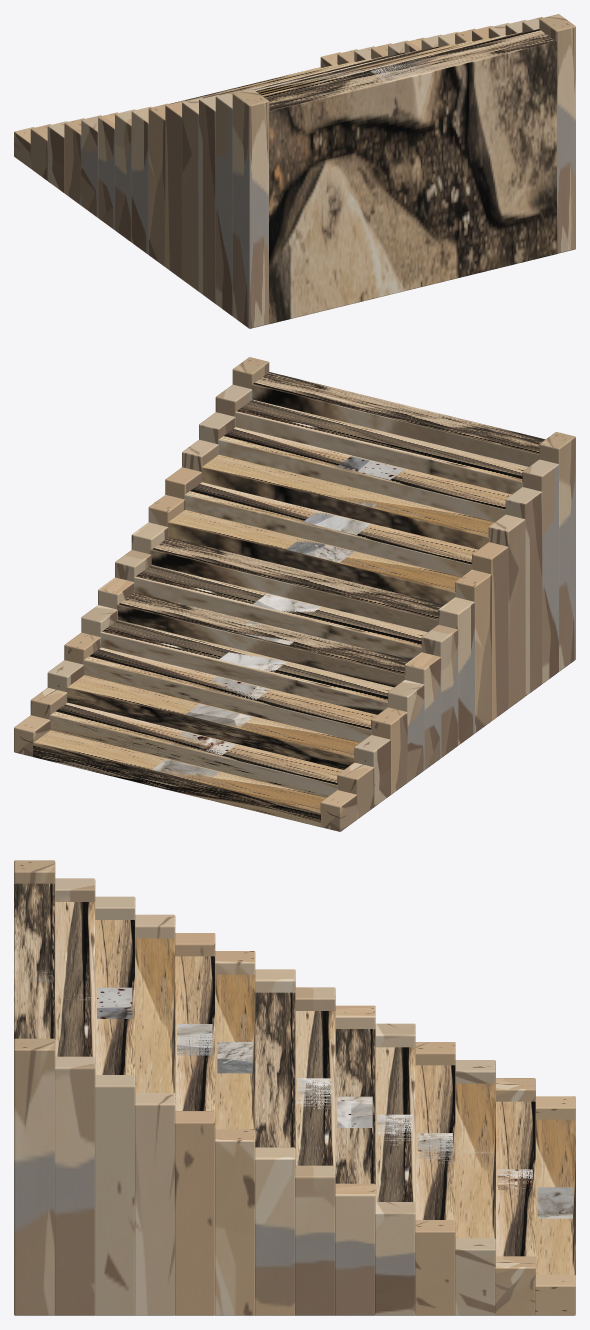
The model's file is stairs_stone_combat_4m_LOD1.glb.
The picture shows the model from 3 angles, top to bottom: view 1: azimuth 30°, elevation 25°; view 2: azimuth 150°, elevation 25°; view 3: azimuth 270°, elevation 25°; orthographic projection. The views are drawn at different scales.
Parts seen in each view (by area): view 1: LOD1_CombatStep.013, LOD1_CombatCurb.026, LOD1_CombatCurb.027, LOD1_CombatCurb.024, LOD1_CombatCurb.022, LOD1_CombatCurb.020, LOD1_CombatCurb.018, LOD1_CombatCurb.016, LOD1_CombatCurb.014, LOD1_CombatCurb.012, LOD1_CombatCurb.010, LOD1_CombatCurb.008 (+8 smaller); view 2: LOD1_CombatStep.013, LOD1_CombatStep.007, LOD1_CombatStep.012, LOD1_CombatStep.010, LOD1_CombatStep.005, LOD1_CombatStep.001, LOD1_CombatStep.003, LOD1_CombatStep, LOD1_CombatStep.004, LOD1_CombatStep.006, LOD1_CombatStep.008, LOD1_CombatStep.009 (+38 smaller); view 3: LOD1_CombatCurb.027, LOD1_CombatCurb.025, LOD1_CombatCurb.023, LOD1_CombatCurb.021, LOD1_CombatCurb.019, LOD1_CombatCurb.017, LOD1_CombatCurb.015, LOD1_CombatStep.013, LOD1_CombatStep.007, LOD1_CombatStep.002, LOD1_CombatStep.010, LOD1_CombatStep.012 (+39 smaller).
Boxes of the visible parts, bbox=[...] form: LOD1_CombatStep.013: bbox=[263, 29, 556, 324]; LOD1_CombatCurb.026: bbox=[232, 89, 269, 328]; LOD1_CombatCurb.027: bbox=[539, 14, 575, 253]; LOD1_CombatCurb.024: bbox=[215, 92, 236, 316]; LOD1_CombatCurb.022: bbox=[199, 94, 219, 303]; LOD1_CombatCurb.020: bbox=[182, 97, 202, 291]; LOD1_CombatCurb.018: bbox=[165, 100, 185, 279]; LOD1_CombatCurb.016: bbox=[148, 103, 168, 267]; LOD1_CombatCurb.014: bbox=[131, 106, 152, 254]; LOD1_CombatCurb.012: bbox=[115, 109, 135, 242]; LOD1_CombatCurb.010: bbox=[98, 112, 118, 230]; LOD1_CombatCurb.008: bbox=[81, 115, 101, 217]; LOD1_CombatStep.013: bbox=[251, 372, 545, 466]; LOD1_CombatStep.007: bbox=[150, 537, 444, 632]; LOD1_CombatStep.012: bbox=[235, 399, 528, 494]; LOD1_CombatStep.010: bbox=[201, 454, 494, 549]; LOD1_CombatStep.005: bbox=[117, 592, 410, 687]; LOD1_CombatStep.001: bbox=[50, 702, 343, 797]; LOD1_CombatStep.003: bbox=[83, 647, 376, 742]; LOD1_CombatStep: bbox=[33, 730, 326, 827]; LOD1_CombatStep.004: bbox=[100, 620, 393, 714]; LOD1_CombatStep.006: bbox=[134, 565, 427, 659]; LOD1_CombatStep.008: bbox=[167, 510, 461, 604]; LOD1_CombatStep.009: bbox=[184, 482, 477, 576]; LOD1_CombatCurb.027: bbox=[14, 1038, 55, 1315]; LOD1_CombatCurb.025: bbox=[54, 1056, 95, 1315]; LOD1_CombatCurb.023: bbox=[94, 1075, 135, 1315]; LOD1_CombatCurb.021: bbox=[134, 1093, 175, 1315]; LOD1_CombatCurb.019: bbox=[174, 1111, 215, 1315]; LOD1_CombatCurb.017: bbox=[215, 1129, 255, 1315]; LOD1_CombatCurb.015: bbox=[255, 1147, 295, 1315]; LOD1_CombatStep.013: bbox=[14, 883, 55, 1039]; LOD1_CombatStep.007: bbox=[255, 992, 295, 1148]; LOD1_CombatStep.002: bbox=[455, 1083, 495, 1238]; LOD1_CombatStep.010: bbox=[135, 938, 175, 1093]; LOD1_CombatStep.012: bbox=[55, 902, 95, 1057].
Size of the model in its own units: 4.01 by 2.62 by 5.01.
Materials: 3 (3 with a texture image).
